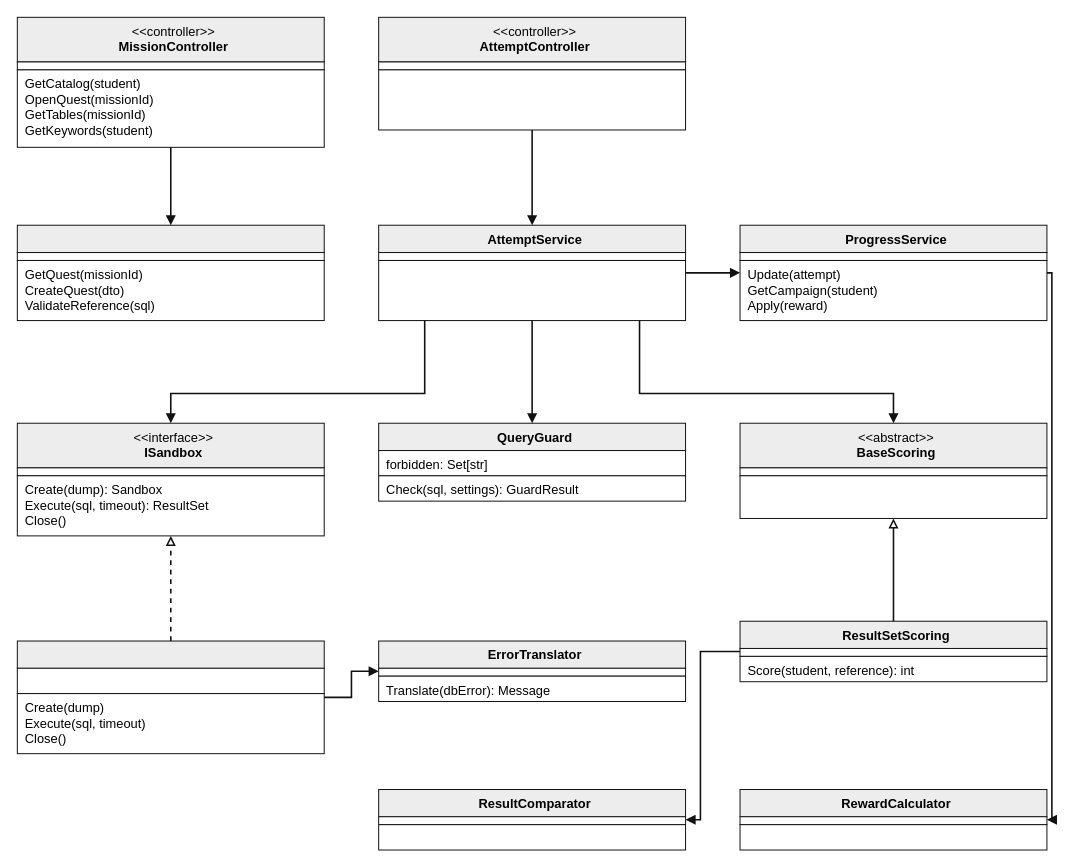
This 1078x868 diagram has some shape labels left out. Here are the shapes that lost their labels. From the top down, the box of each, then its label:
(378, 69, 686, 130): Submit(missionId, sql) SaveDraft(missionId, text) GetHint(missionId)
(16, 224, 324, 253): MissionService
(378, 259, 686, 321): Submit(student, mission, sql) SaveDraft(student, text) RecordAttempt(result)
(739, 475, 1047, 518): Score(student, reference): int Stars(attempt): int
(16, 640, 324, 668): SqliteSandbox
(16, 667, 324, 694): connection: sqlite3.Connection
(378, 824, 686, 850): Compare(a, b, ordered): bool
(739, 824, 1047, 850): Reward(base, errors): int
